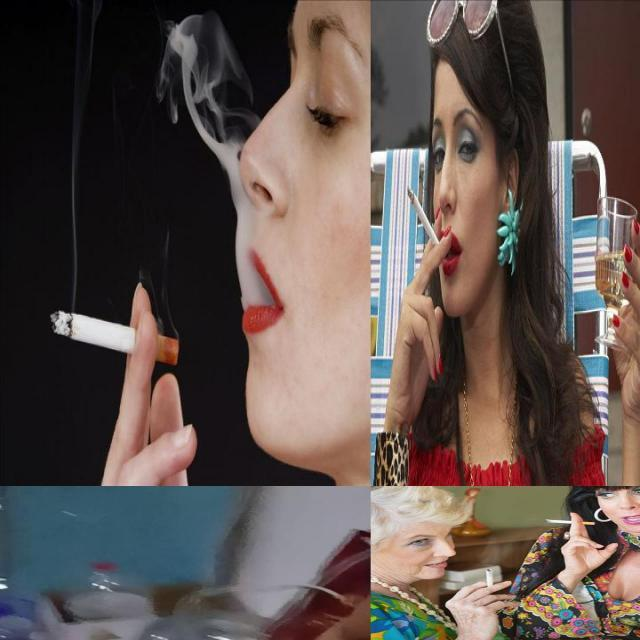smoke: (48, 306, 184, 370), (406, 180, 446, 264), (542, 516, 598, 526), (478, 566, 499, 590)
